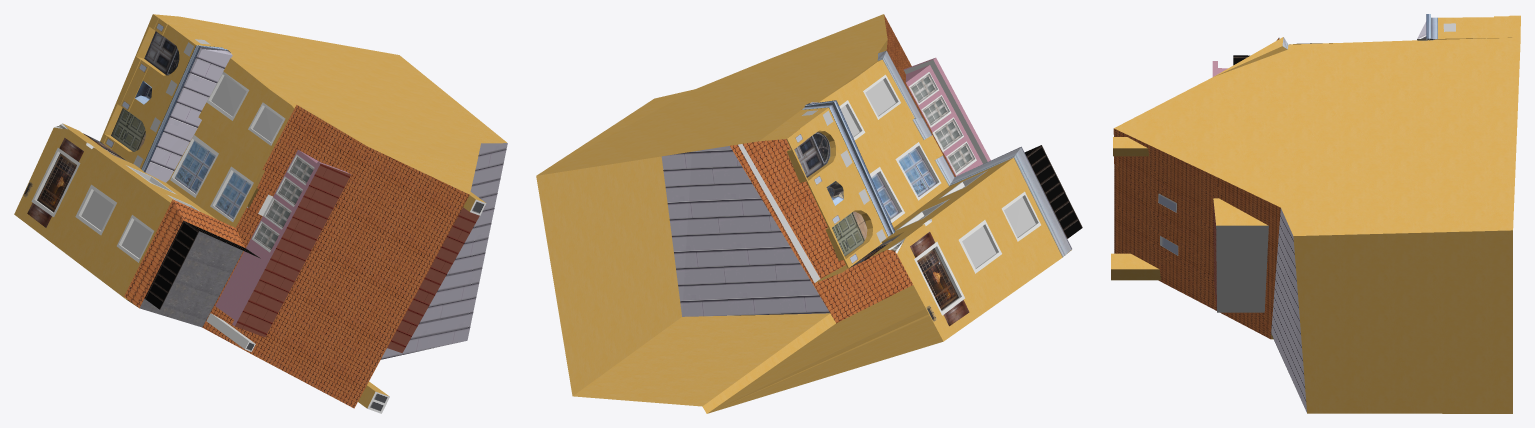
The model's file is Olevimagi_4.obj.
3 views of the same model, side by side, from view 1: azimuth 30°, elevation 25°; view 2: azimuth 150°, elevation 25°; view 3: azimuth 270°, elevation 25° (orthographic). The views are drawn at different scales.
Parts seen in each view (by area): view 1: Olevimagi_4; view 2: Olevimagi_4; view 3: Olevimagi_4.
Part boxes in pixels (x1,y1,x2,y2): Olevimagi_4: (14,14,507,413); Olevimagi_4: (536,14,1082,413); Olevimagi_4: (1111,14,1520,413).
Bounding box in the file's own units: 18.46 × 13.5 × 16.76.
